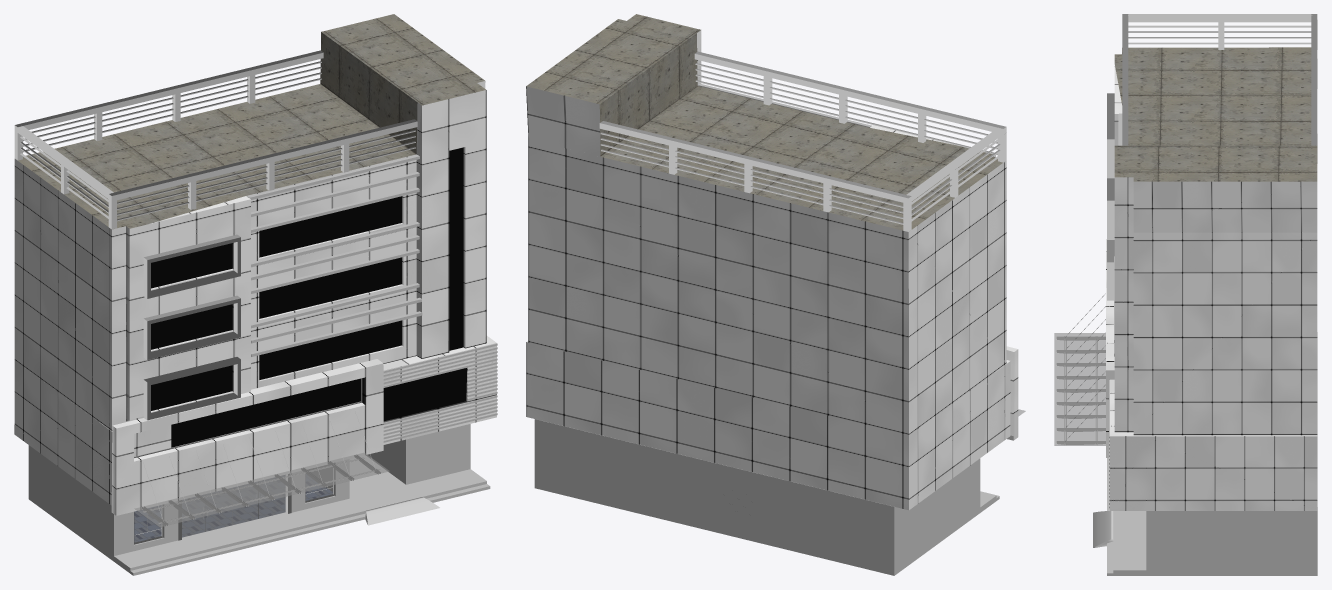
Rendered from building1_lod0.FBX.
The picture shows the model from 3 angles, left to right: view 1: azimuth 30°, elevation 25°; view 2: azimuth 150°, elevation 25°; view 3: azimuth 270°, elevation 25°; orthographic projection.
Visible parts, largest first — view 1: office_exterior, office_details, office_top, glasses2, office_limestone, office_sreps, glass, office_floor, door2, door4, door3, door1; view 2: office_exterior, office_top, office_limestone, office_details; view 3: office_exterior, office_top, office_limestone, office_details, glass, office_sreps.
Part boxes in pixels (x1=…): office_exterior: x1=14, y1=81, x2=496, y2=515; office_details: x1=14, y1=50, x2=497, y2=544; office_top: x1=18, y1=14, x2=485, y2=229; glasses2: x1=151, y1=147, x2=467, y2=447; office_limestone: x1=28, y1=424, x2=470, y2=561; office_sreps: x1=114, y1=469, x2=490, y2=575; glass: x1=134, y1=452, x2=389, y2=542; office_floor: x1=134, y1=474, x2=332, y2=542; door2: x1=205, y1=488, x2=232, y2=531; door4: x1=259, y1=475, x2=285, y2=518; door3: x1=233, y1=482, x2=258, y2=524; door1: x1=182, y1=495, x2=205, y2=537; office_exterior: x1=526, y1=30, x2=1018, y2=510; office_top: x1=526, y1=14, x2=1002, y2=230; office_limestone: x1=534, y1=419, x2=980, y2=575; office_details: x1=599, y1=51, x2=1006, y2=231; office_exterior: x1=1106, y1=65, x2=1317, y2=510; office_top: x1=1114, y1=47, x2=1317, y2=181; office_limestone: x1=1146, y1=332, x2=1317, y2=575; office_details: x1=1056, y1=14, x2=1317, y2=547; glass: x1=1054, y1=333, x2=1105, y2=445; office_sreps: x1=1107, y1=458, x2=1146, y2=575.
Size of the model in its own units: 2249 by 2224 by 1330.
